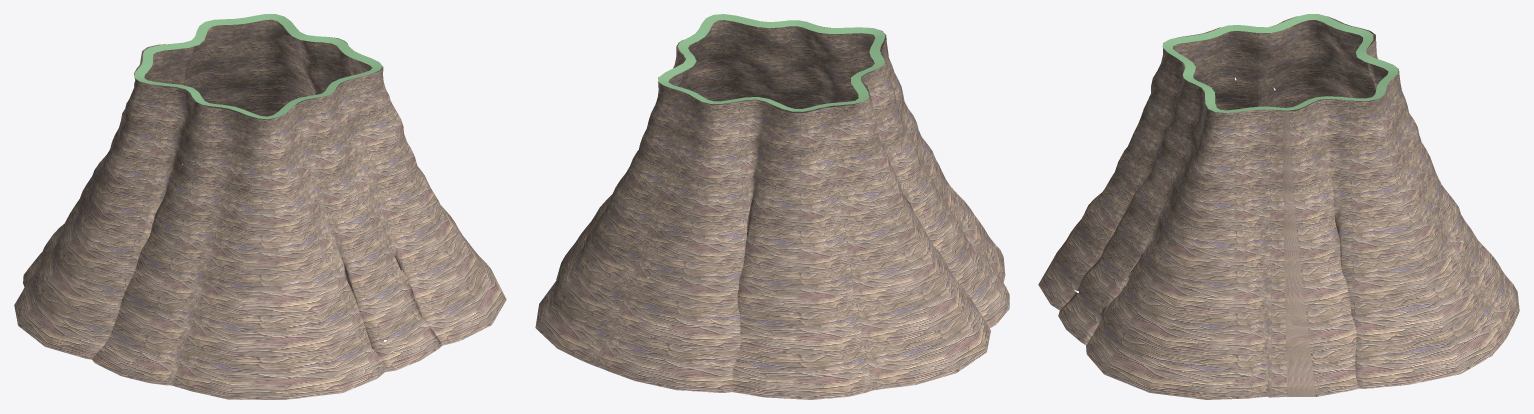
File: CliffWall_stack_01.glb
3 renders of one model, left to right at view 1: azimuth 30°, elevation 25°; view 2: azimuth 150°, elevation 25°; view 3: azimuth 270°, elevation 25°, orthographic.
Parts seen in each view (by area): view 1: CliffWall_stack_01-rock0, CliffWall_stack_01-lip0; view 2: CliffWall_stack_01-rock0, CliffWall_stack_01-lip0; view 3: CliffWall_stack_01-rock0, CliffWall_stack_01-lip0.
Part boxes in pixels (x1=…): CliffWall_stack_01-rock0: x1=14, y1=19, x2=506, y2=399; CliffWall_stack_01-lip0: x1=134, y1=14, x2=382, y2=119; CliffWall_stack_01-rock0: x1=535, y1=20, x2=1009, y2=399; CliffWall_stack_01-lip0: x1=658, y1=14, x2=885, y2=111; CliffWall_stack_01-rock0: x1=1038, y1=16, x2=1519, y2=399; CliffWall_stack_01-lip0: x1=1162, y1=14, x2=1398, y2=112.
Bounding box in the file's own units: 402 × 218 × 404.
Materials: 4 (1 with a texture image).
